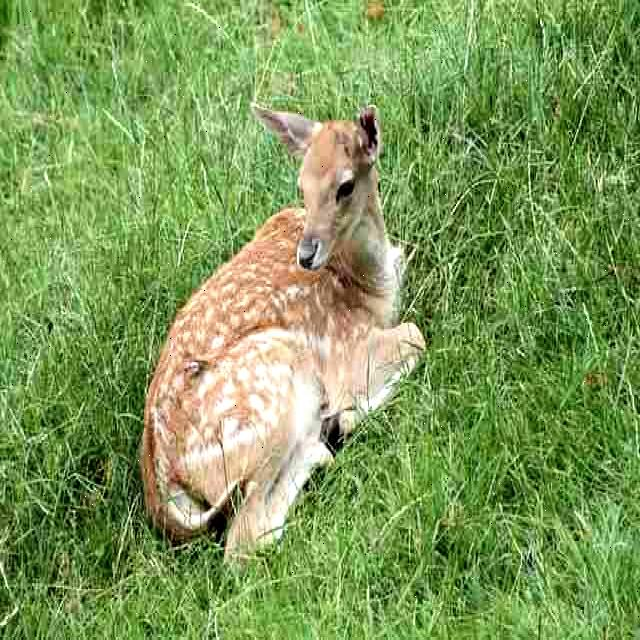deer: (249, 79, 397, 332)
